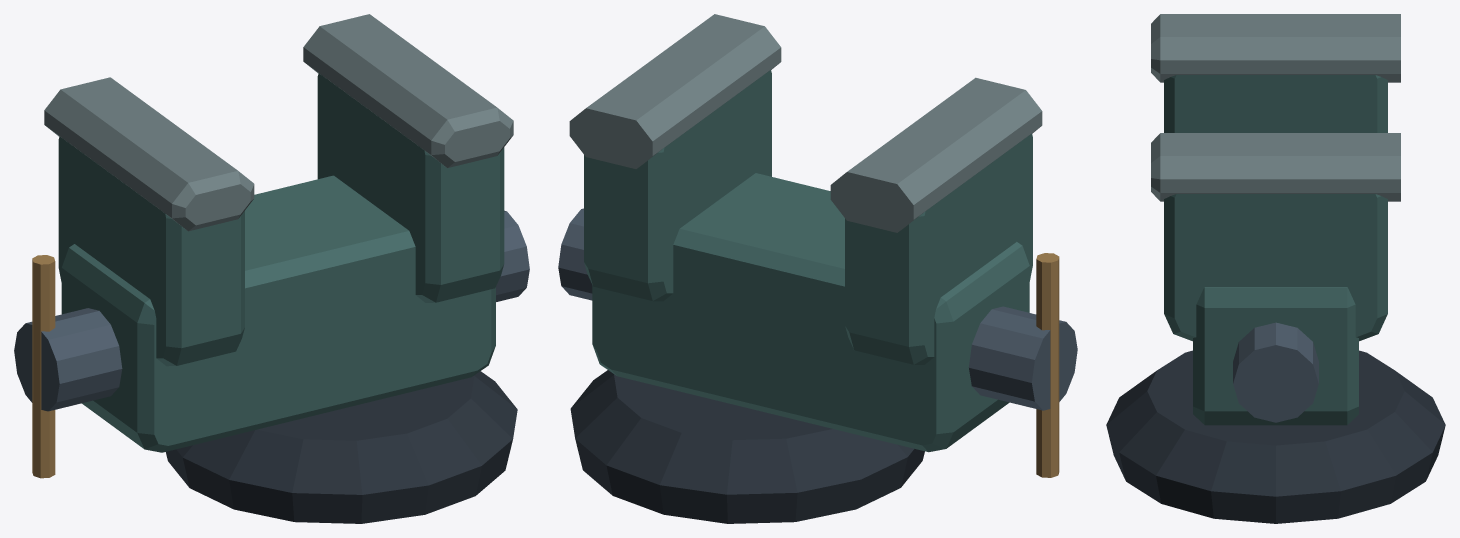
Rendered from T-01_bench_vise.glb.
3 views of the same model, side by side, from view 1: azimuth 30°, elevation 25°; view 2: azimuth 150°, elevation 25°; view 3: azimuth 270°, elevation 25° (orthographic). The views are drawn at different scales.
Parts seen in each view (by area): view 1: T-01_bench_vise; view 2: T-01_bench_vise; view 3: T-01_bench_vise.
Part boxes in pixels (x1,y1,x2,y2): T-01_bench_vise: (14, 14, 529, 523); T-01_bench_vise: (558, 14, 1077, 523); T-01_bench_vise: (1106, 14, 1445, 523).
Size of the model in its own units: 0.276 by 0.2035 by 0.182.
